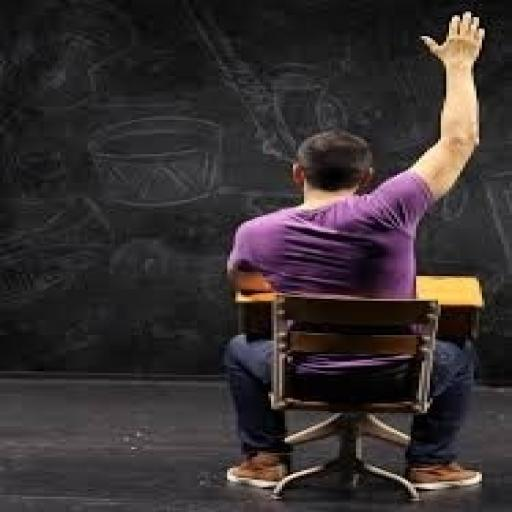sitting: (216, 9, 490, 493)
